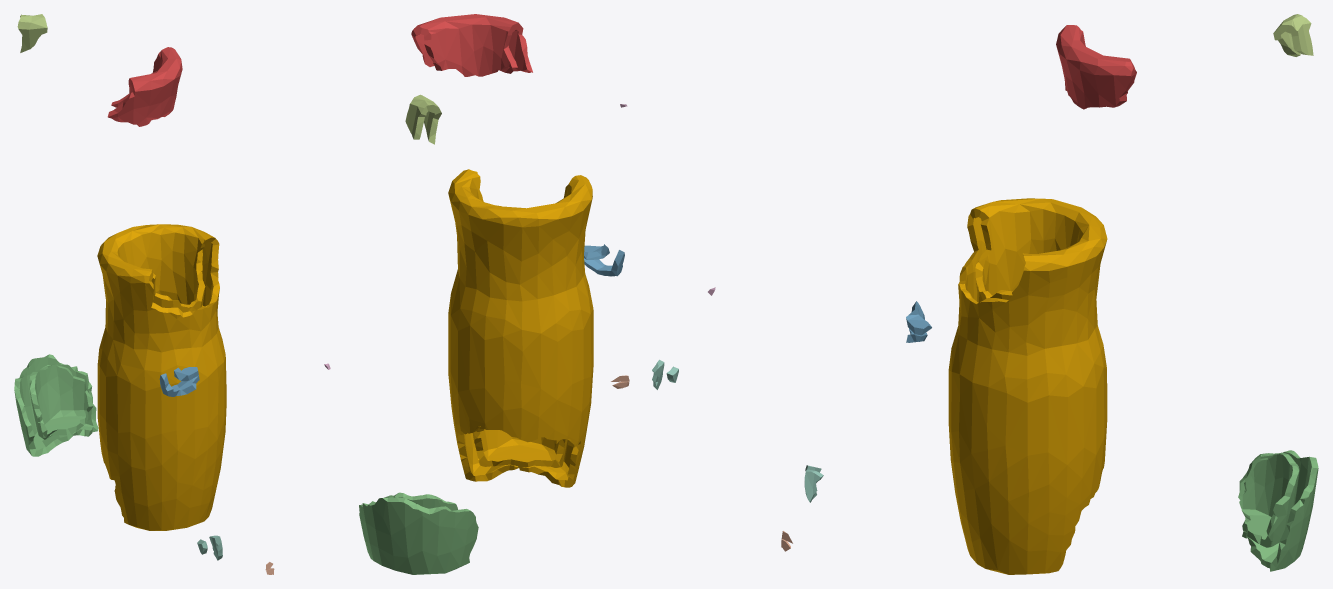
Rendered from fractured_9_8pcs_transformed.glb.
3 views of the same model, side by side, from view 1: azimuth 30°, elevation 25°; view 2: azimuth 150°, elevation 25°; view 3: azimuth 270°, elevation 25° (orthographic). The views are drawn at different scales.
Parts seen in each view (by area): view 1: piece_0.obj, piece_3.obj, piece_2.obj, piece_20.obj, piece_53.obj; view 2: piece_0.obj, piece_3.obj, piece_2.obj, piece_53.obj, piece_20.obj, piece_4.obj; view 3: piece_0.obj, piece_3.obj, piece_2.obj, piece_53.obj.
Boxes of the visible parts, <box> form: piece_0.obj: <box>97,224,226,530</box>; piece_3.obj: <box>14,354,98,456</box>; piece_2.obj: <box>107,47,182,126</box>; piece_20.obj: <box>159,367,199,396</box>; piece_53.obj: <box>17,14,47,52</box>; piece_0.obj: <box>448,169,593,487</box>; piece_3.obj: <box>359,492,478,574</box>; piece_2.obj: <box>411,14,532,76</box>; piece_53.obj: <box>405,94,441,144</box>; piece_20.obj: <box>584,244,624,276</box>; piece_4.obj: <box>652,359,678,389</box>; piece_0.obj: <box>948,198,1107,574</box>; piece_3.obj: <box>1238,450,1318,571</box>; piece_2.obj: <box>1056,25,1136,109</box>; piece_53.obj: <box>1273,14,1313,56</box>.
Bounding box in the file's own units: 0.4439 × 1.6 × 1.71.
